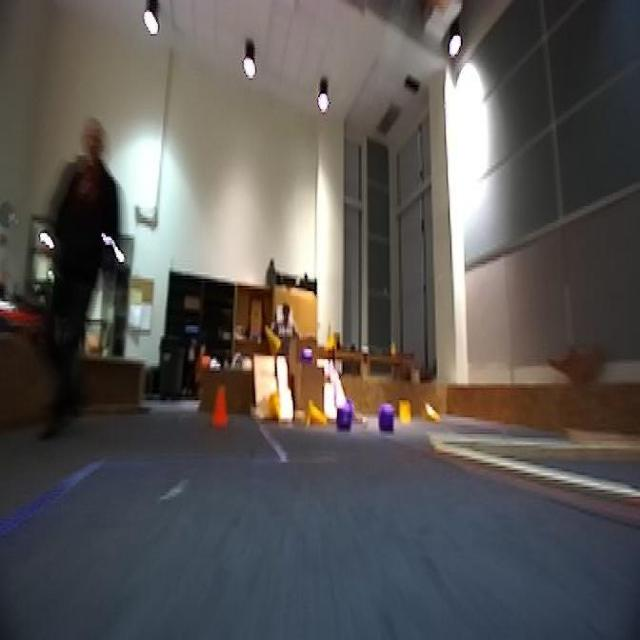frc_cone: (262, 322, 288, 356), (304, 398, 330, 431), (266, 390, 286, 422), (422, 402, 443, 429), (322, 323, 337, 356), (398, 398, 412, 432)
frc_cube: (376, 402, 397, 436), (334, 403, 350, 432), (299, 340, 316, 366)
